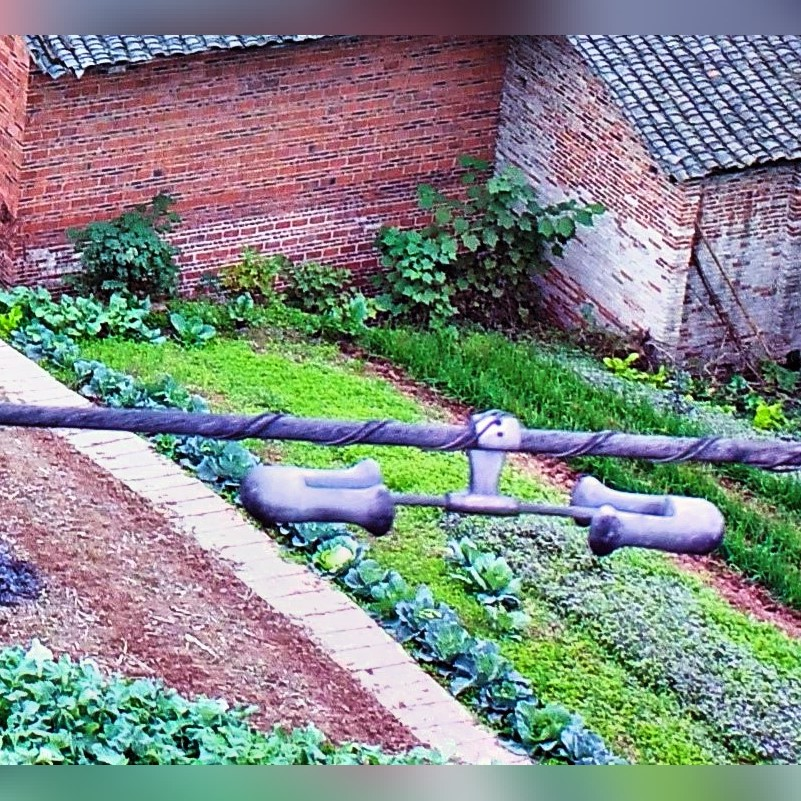Shockproof hammer: (221, 389, 732, 565)
